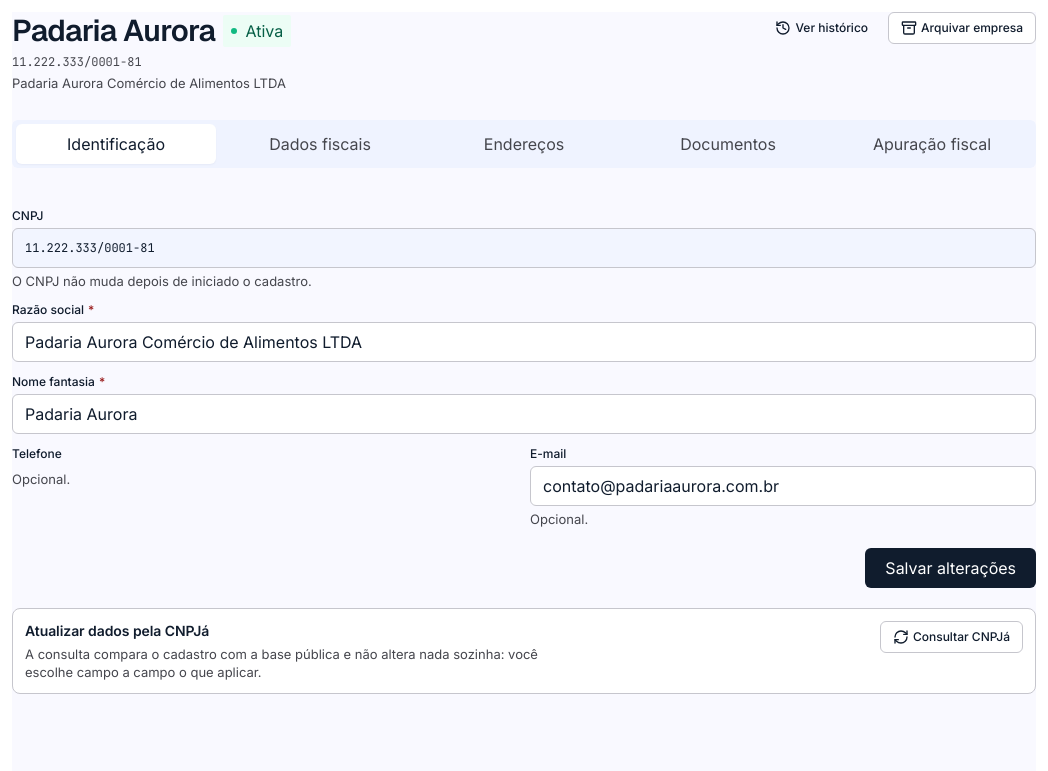
it: atualização pela CNPJá (§3.3) › alerta situação externa diferente de Ativa sem bloquear a edição
Click the button "Consultar CNPJá".
click(951, 637)  # box top-left (880, 621), bottom-right (1023, 653)
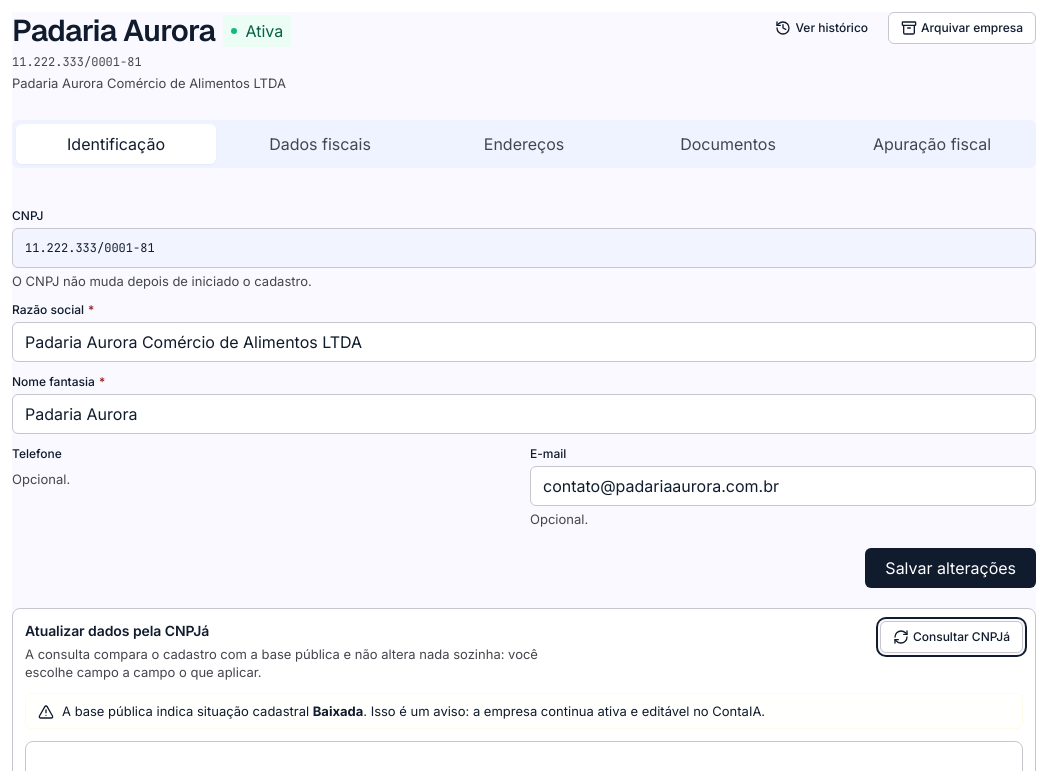
Expected: the field labelled "Razão social*" is enabled, top-left (12, 322), bottom-right (1036, 362)
Result: the text "Baixada" is shown at top-left (313, 703), bottom-right (363, 719)
